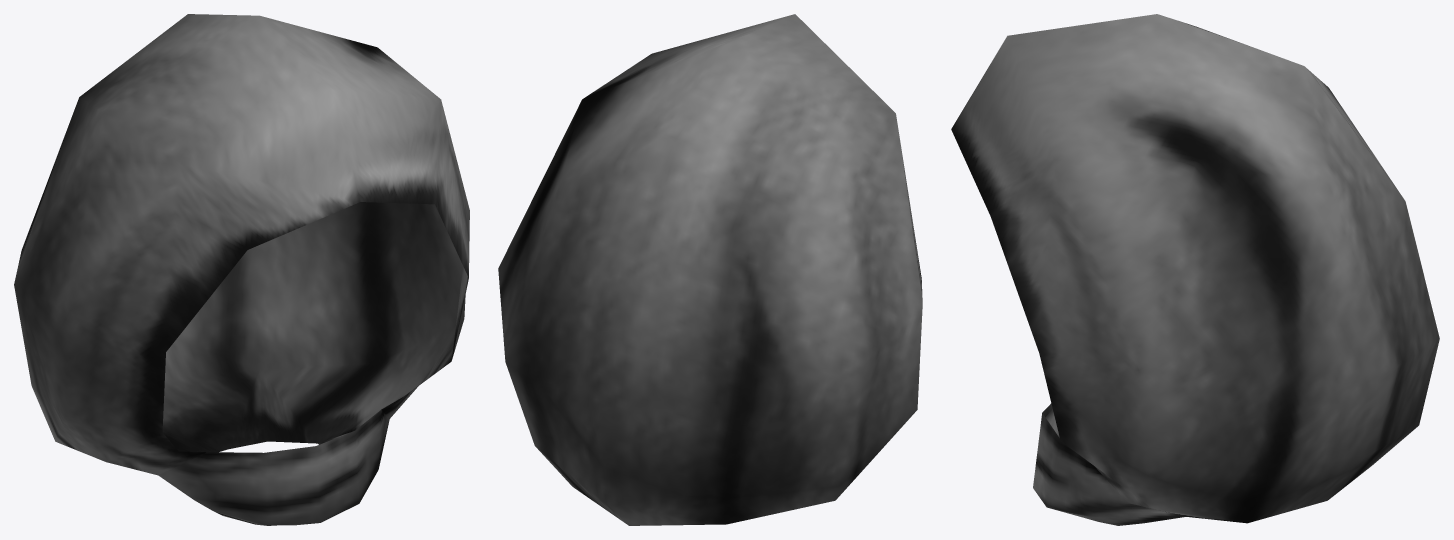
Rendered from CH_Aka_Hood.FBX.
The picture shows the model from 3 angles, left to right: view 1: azimuth 30°, elevation 25°; view 2: azimuth 150°, elevation 25°; view 3: azimuth 270°, elevation 25°; orthographic projection. The views are drawn at different scales.
Parts seen in each view (by area): view 1: CH_Aka_Hood; view 2: CH_Aka_Hood; view 3: CH_Aka_Hood.
Part boxes in pixels (x1=…): CH_Aka_Hood: x1=14, y1=14, x2=469, y2=525; CH_Aka_Hood: x1=498, y1=14, x2=922, y2=525; CH_Aka_Hood: x1=951, y1=14, x2=1439, y2=525.
Bounding box in the file's own units: 42.46 × 48.93 × 43.69.
